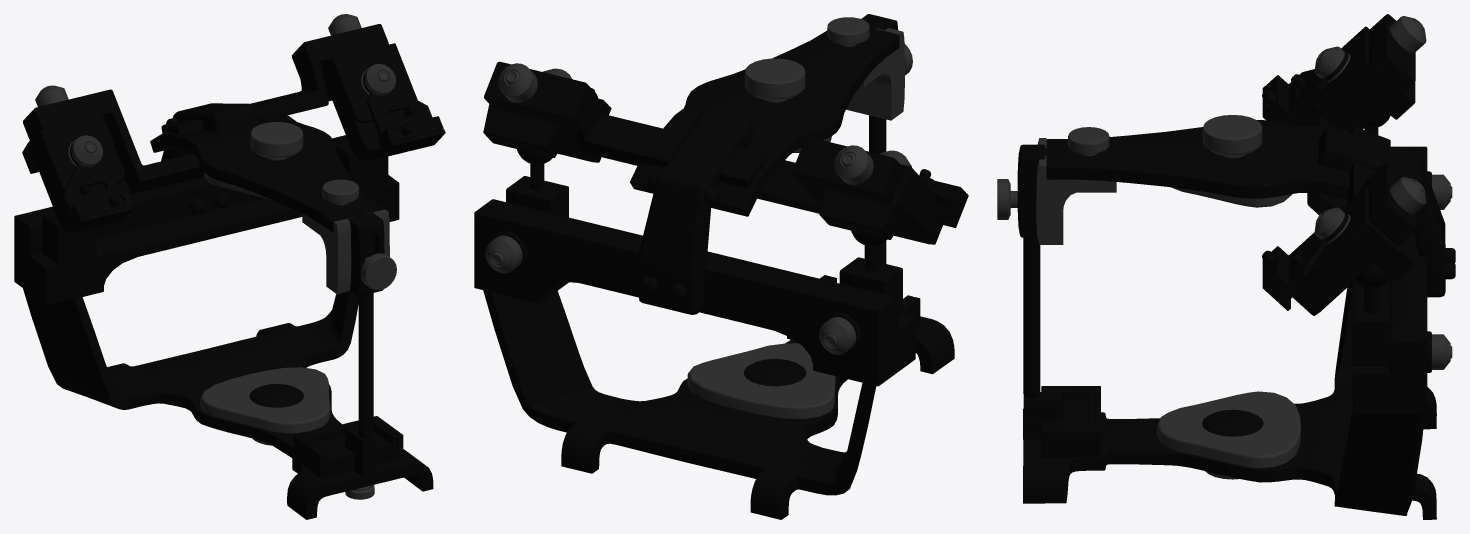
The model's file is FullArticulator.fbx.
3 views of the same model, side by side, from view 1: azimuth 30°, elevation 25°; view 2: azimuth 150°, elevation 25°; view 3: azimuth 270°, elevation 25° (orthographic). The views are drawn at different scales.
Parts seen in each view (by area): view 1: Base, Dial, Top, LowPad, ScaleR, Screw08, LevelSupport, Pen, Level, Adjust01, Screw07, Adjust02 (+3 smaller); view 2: Base, Dial, Top, Screw08, LowPad, LevelSupport, Adjust01, Adjust02, Screw07, Screw02, Screw01, Screw06 (+1 smaller); view 3: Base, Dial, Top, LowPad, Screw08, ScaleR, Adjust02, Pen, LevelSupport, Screw07, Level, ScaleCube (+5 smaller).
Boxes of the visible parts, x1,y1,x2,y2 form: Base: (14,135,433,519); Dial: (22,14,445,233); Top: (150,111,383,233); LowPad: (200,367,330,433); ScaleR: (293,416,403,477); Screw08: (161,103,257,214); LevelSupport: (302,209,389,294); Pen: (358,293,373,439); Level: (347,211,384,296); Adjust01: (42,211,96,265); Screw07: (250,122,303,160); Adjust02: (334,140,388,190); Base: (474,199,954,519); Dial: (483,61,968,244); Top: (630,29,899,216); Screw08: (638,110,753,314); LowPad: (687,343,836,418); LevelSupport: (846,28,904,120); Adjust01: (839,230,902,316); Adjust02: (506,149,568,217); Screw07: (745,58,805,102); Screw02: (485,230,527,273); Screw01: (819,312,861,354); Screw06: (827,17,869,46); Base: (1023,146,1436,519); Dial: (1262,14,1426,315); Top: (1046,120,1349,199); LowPad: (1157,391,1300,468); Screw08: (1318,125,1455,297); ScaleR: (1041,386,1100,457); Adjust02: (1353,264,1390,365); Pen: (1023,237,1040,398); LevelSupport: (1036,138,1116,244); Screw07: (1202,115,1262,158); Level: (1017,144,1055,237); ScaleCube: (1023,392,1063,439).
Size of the model in its own units: 135 by 116 by 131.
1 material, 1 textured.
